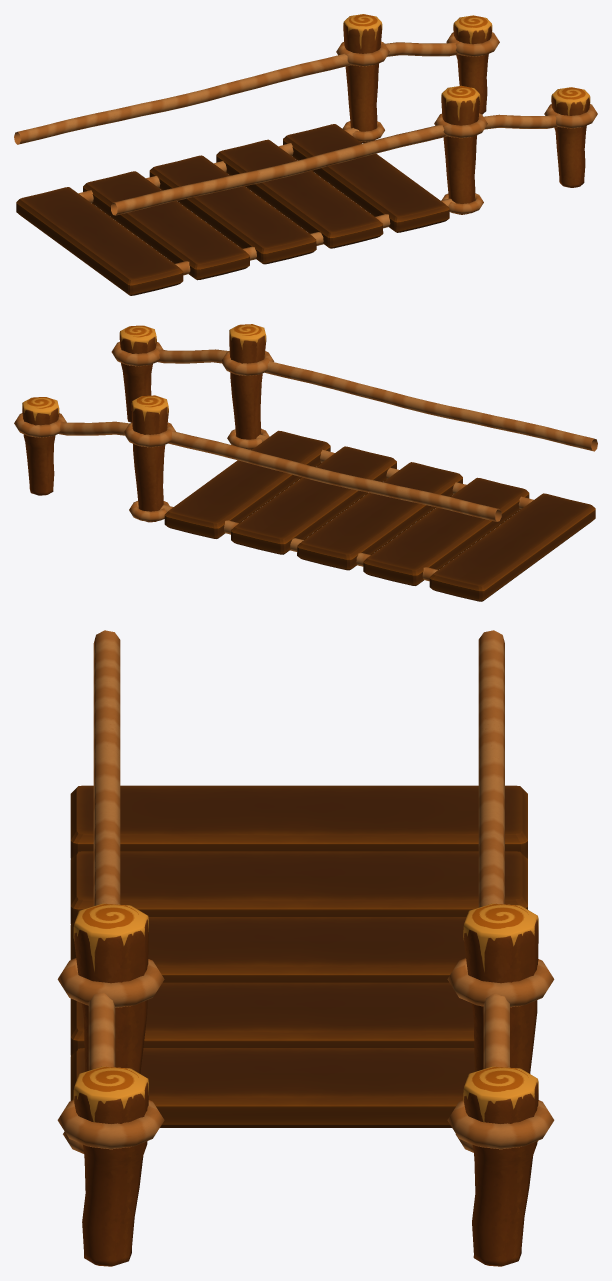
File: bridgemodupdate.fbx
The picture shows the model from 3 angles, top to bottom: view 1: azimuth 30°, elevation 25°; view 2: azimuth 150°, elevation 25°; view 3: azimuth 270°, elevation 25°; orthographic projection. The views are drawn at different scales.
Parts seen in each view (by area): view 1: BezierCurve.003, Cube.012, Cube.011, Cube.015, Cube.010, Cube.016, log.007, log.019, log.003, log.006, BezierCurve.002, BezierCurve.004 (+6 smaller); view 2: BezierCurve.003, Cube.012, Cube.011, Cube.015, Cube.016, Cube.010, log.019, log.007, log.006, log.003, BezierCurve.002, BezierCurve.004 (+6 smaller); view 3: Cube.012, Cube.011, Cube.016, Cube.015, Cube.010, BezierCurve.003, log.006, log.003, log.019, log.007, BezierCurve.002, Torus.005 (+3 smaller).
Boxes of the visible parts, x1,y1,x2,y2 form: BezierCurve.003: [14, 53, 447, 215]; Cube.012: [16, 187, 183, 295]; Cube.011: [83, 171, 249, 280]; Cube.015: [216, 139, 383, 248]; Cube.010: [149, 155, 316, 264]; Cube.016: [283, 124, 449, 232]; log.007: [441, 85, 480, 214]; log.019: [343, 14, 382, 143]; log.003: [551, 87, 590, 187]; log.006: [453, 15, 492, 114]; BezierCurve.002: [385, 42, 557, 129]; BezierCurve.004: [78, 128, 455, 275]; BezierCurve.003: [168, 361, 597, 521]; Cube.012: [429, 493, 595, 601]; Cube.011: [363, 477, 529, 585]; Cube.015: [231, 446, 396, 554]; Cube.016: [164, 430, 330, 538]; Cube.010: [297, 462, 462, 570]; log.019: [131, 395, 168, 522]; log.007: [229, 324, 266, 450]; log.006: [22, 397, 59, 495]; log.003: [119, 325, 156, 422]; BezierCurve.002: [59, 349, 229, 435]; BezierCurve.004: [160, 434, 533, 581]; Cube.012: [70, 785, 527, 858]; Cube.011: [70, 851, 527, 924]; Cube.016: [70, 1048, 474, 1127]; Cube.015: [70, 982, 474, 1055]; Cube.010: [70, 917, 466, 982]; BezierCurve.003: [93, 630, 504, 907]; log.006: [463, 1066, 538, 1266]; log.003: [73, 1066, 148, 1266]; log.019: [463, 903, 538, 1073]; log.007: [73, 903, 148, 1073]; BezierCurve.002: [88, 993, 509, 1070]; Torus.005: [447, 1100, 554, 1149].
Size of the model in its own units: 1732 by 411 by 778.
